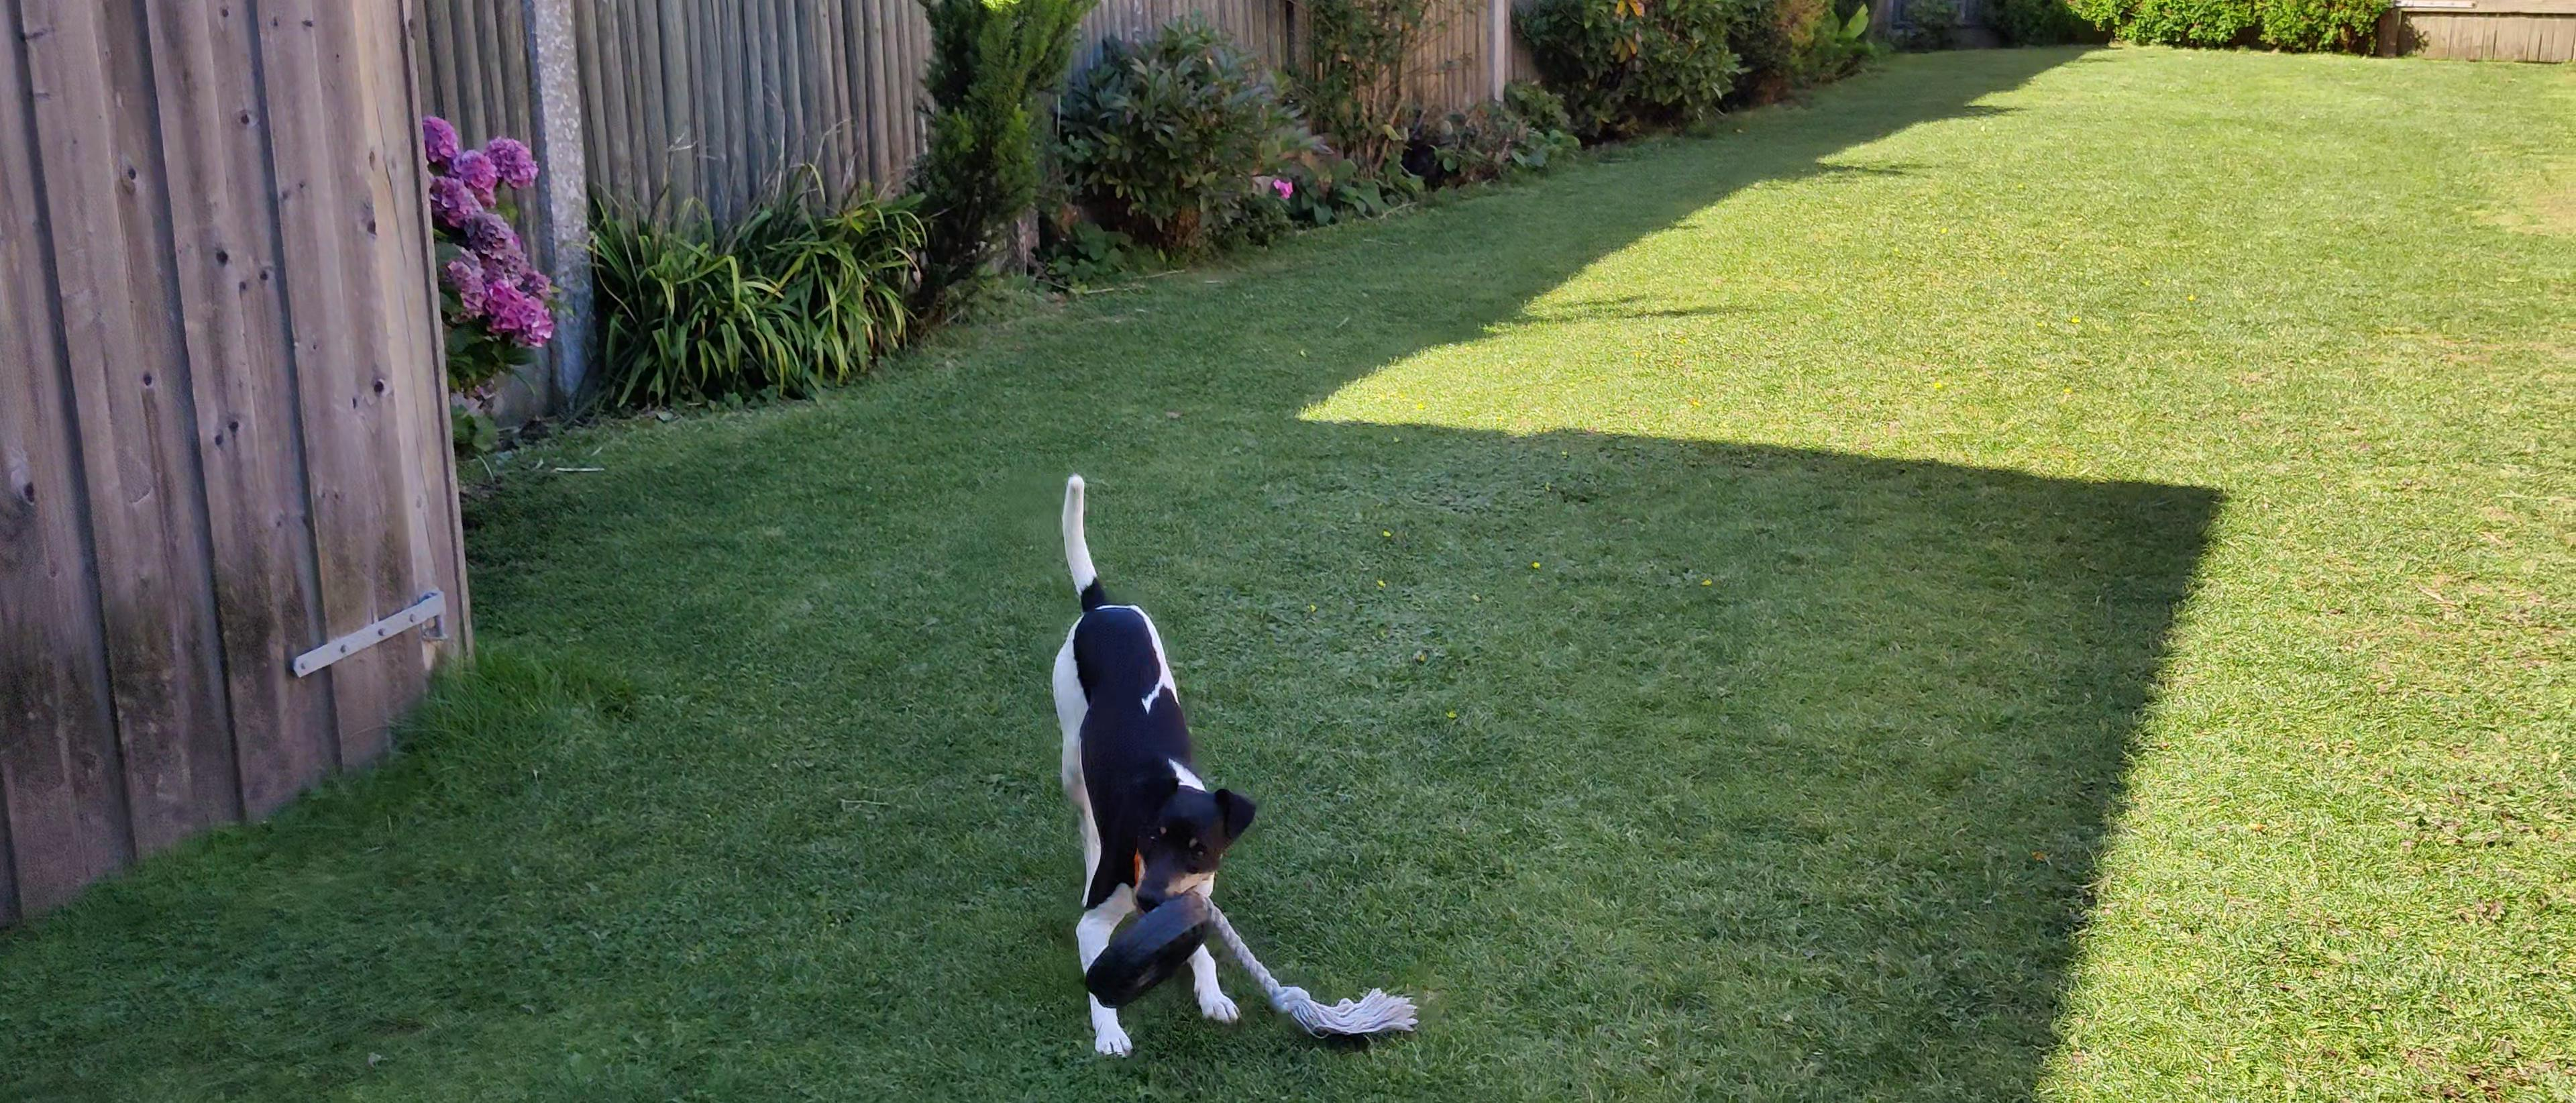Dog: (1027, 462, 1255, 1064)
